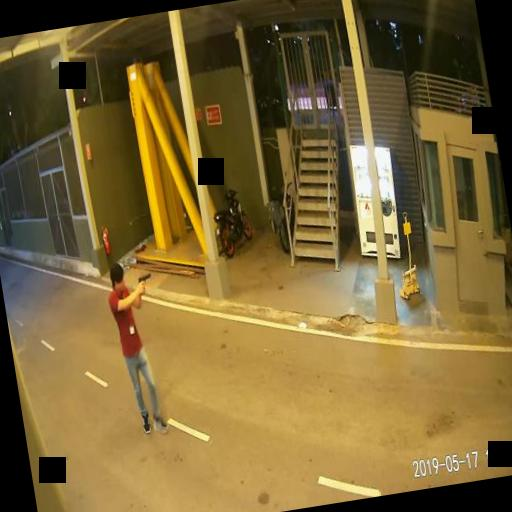Handgun: (134, 271, 151, 292)
